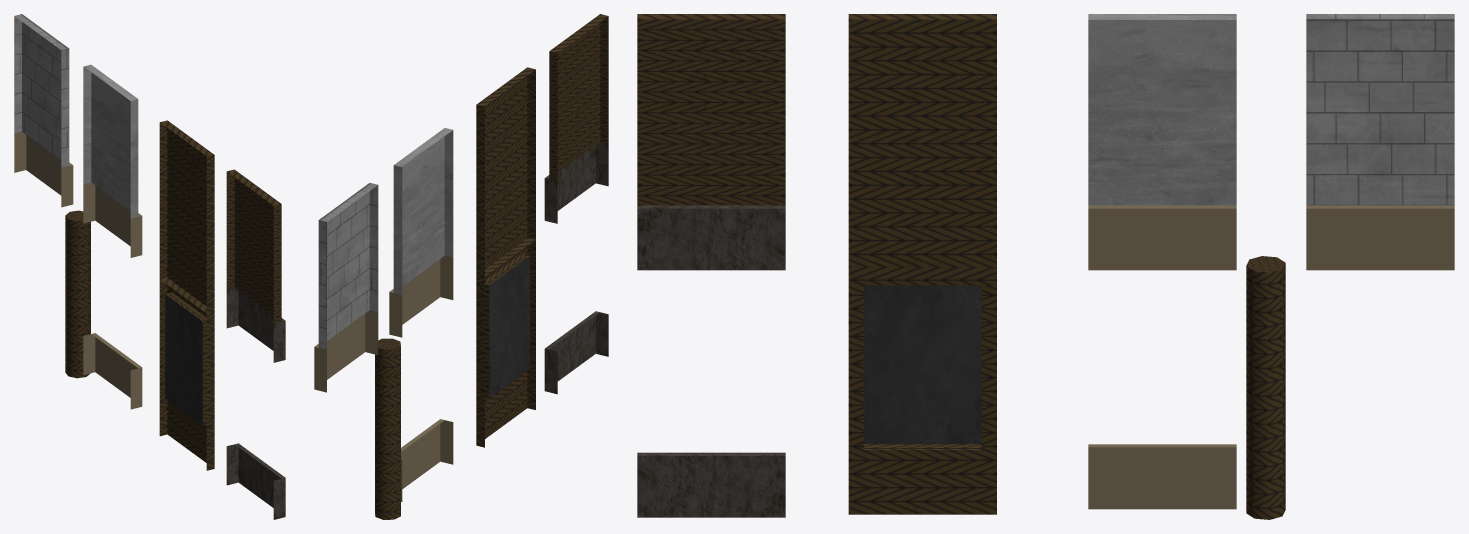
The model's file is BuildingBlocks2.fbx.
3 views of the same model, side by side, from view 1: azimuth 30°, elevation 25°; view 2: azimuth 150°, elevation 25°; view 3: azimuth 270°, elevation 25° (orthographic). The views are drawn at different scales.
Visible parts, largest first — view 1: WallRough Ledge.001, WallTileLedge, WallRough Ledge, WallSmoothFull, WallTileWindow.003, WallTileWindow.004, Pillar.001, WallRough Ledge.002, WallRough Ledge.003; view 2: WallRough Ledge, WallTileLedge, WallRough Ledge.001, WallSmoothFull, WallTileWindow.003, WallTileWindow.004, Pillar.001, WallRough Ledge.002, WallRough Ledge.003; view 3: WallRough Ledge, WallRough Ledge.001, WallTileLedge, WallSmoothFull, WallTileWindow.004, WallTileWindow.003, Pillar.001, WallRough Ledge.002, WallRough Ledge.003.
Boxes of the visible parts, <box> form: WallRough Ledge.001: <box>226,169,285,362</box>; WallTileLedge: <box>14,14,73,207</box>; WallRough Ledge: <box>83,64,142,257</box>; WallSmoothFull: <box>159,120,214,313</box>; WallTileWindow.003: <box>159,277,214,470</box>; WallTileWindow.004: <box>165,294,202,425</box>; Pillar.001: <box>65,210,90,378</box>; WallRough Ledge.002: <box>226,443,285,519</box>; WallRough Ledge.003: <box>83,333,142,409</box>; WallRough Ledge: <box>389,128,453,337</box>; WallTileLedge: <box>314,183,378,392</box>; WallRough Ledge.001: <box>544,14,608,223</box>; WallSmoothFull: <box>476,67,535,276</box>; WallTileWindow.003: <box>476,238,535,447</box>; WallTileWindow.004: <box>489,256,529,398</box>; Pillar.001: <box>375,338,400,519</box>; WallRough Ledge.002: <box>544,311,608,394</box>; WallRough Ledge.003: <box>401,419,453,501</box>; WallRough Ledge: <box>1088,14,1236,270</box>; WallRough Ledge.001: <box>637,14,785,270</box>; WallTileLedge: <box>1306,14,1454,270</box>; WallSmoothFull: <box>848,14,996,267</box>; WallTileWindow.004: <box>864,285,981,444</box>; WallTileWindow.003: <box>848,267,996,514</box>; Pillar.001: <box>1246,256,1285,519</box>; WallRough Ledge.002: <box>637,452,785,517</box>; WallRough Ledge.003: <box>1088,444,1236,509</box>.
Size of the model in its own units: 33.26 by 460 by 689.
